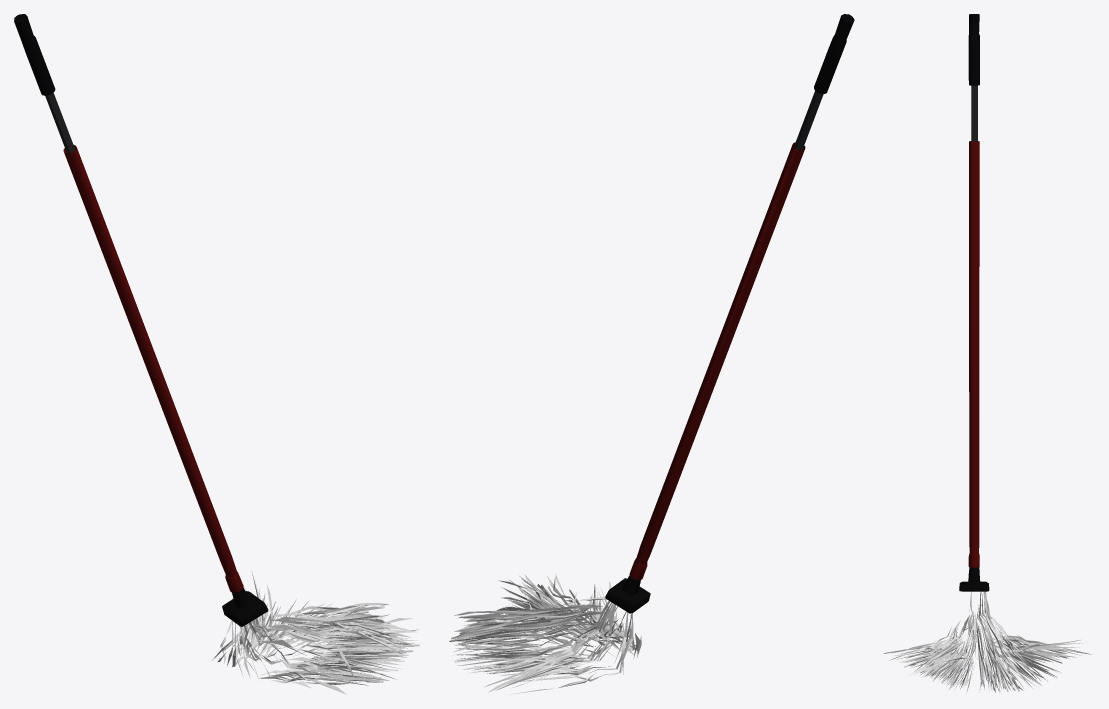
Rendered from mopReduced.fbx.
3 views of the same model, side by side, from view 1: azimuth 30°, elevation 25°; view 2: azimuth 150°, elevation 25°; view 3: azimuth 270°, elevation 25° (orthographic). The views are drawn at different scales.
Parts seen in each view (by area): view 1: mop; view 2: mop; view 3: mop.
Part boxes in pixels (x1,y1,x2,y2): mop: [14, 14, 419, 694]; mop: [449, 14, 854, 694]; mop: [883, 14, 1092, 693].
Size of the model in its own units: 526 by 921 by 323.
